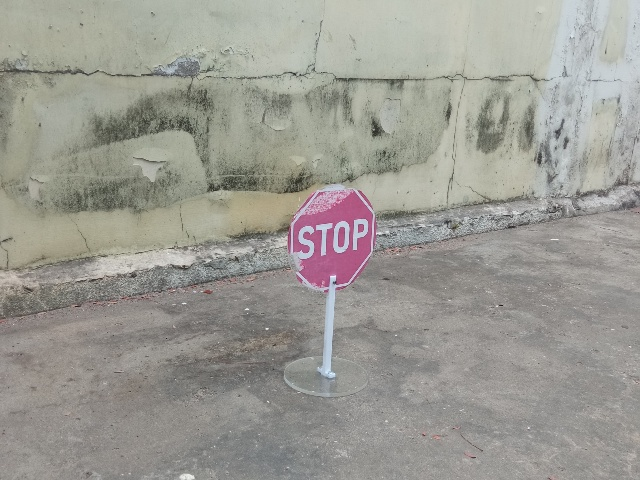Stop_Sign: (288, 185, 377, 292)
